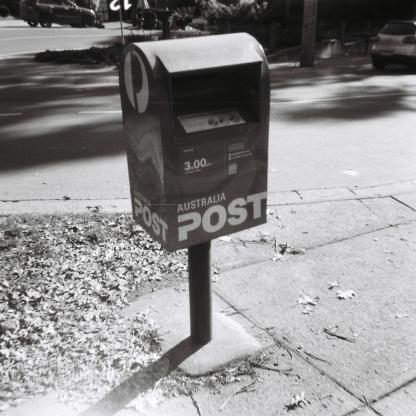Car: (21, 1, 98, 33), (365, 14, 416, 56)
